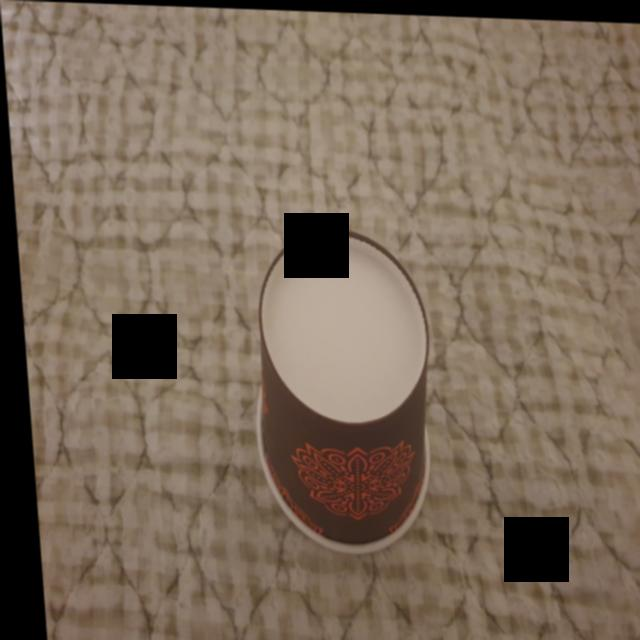cups: (226, 212, 448, 562)
